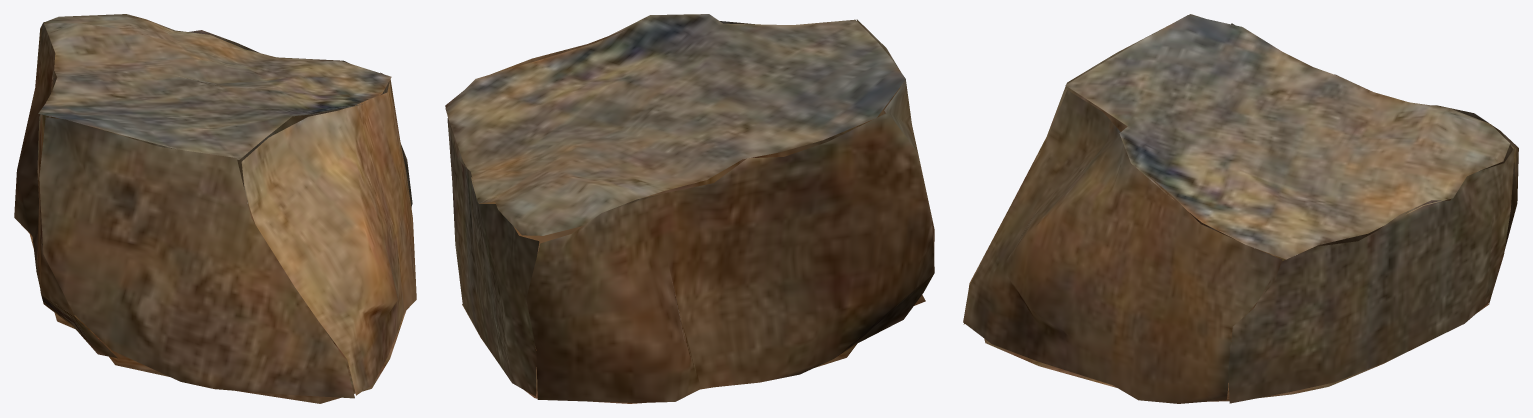
The model's file is namaqualand_boulder_03_lod2.glb.
The picture shows the model from 3 angles, left to right: view 1: azimuth 30°, elevation 25°; view 2: azimuth 150°, elevation 25°; view 3: azimuth 270°, elevation 25°; orthographic projection. The views are drawn at different scales.
Parts seen in each view (by area): view 1: boulder_03_LOD0; view 2: boulder_03_LOD0; view 3: boulder_03_LOD0.
Part boxes in pixels (left/top/right/bottom): boulder_03_LOD0: left=14, top=14, right=416, bottom=403; boulder_03_LOD0: left=445, top=14, right=934, bottom=403; boulder_03_LOD0: left=963, top=14, right=1518, bottom=403.
Size of the model in its own units: 2.4 by 1.46 by 3.05.
Materials: 1 (1 with a texture image).
